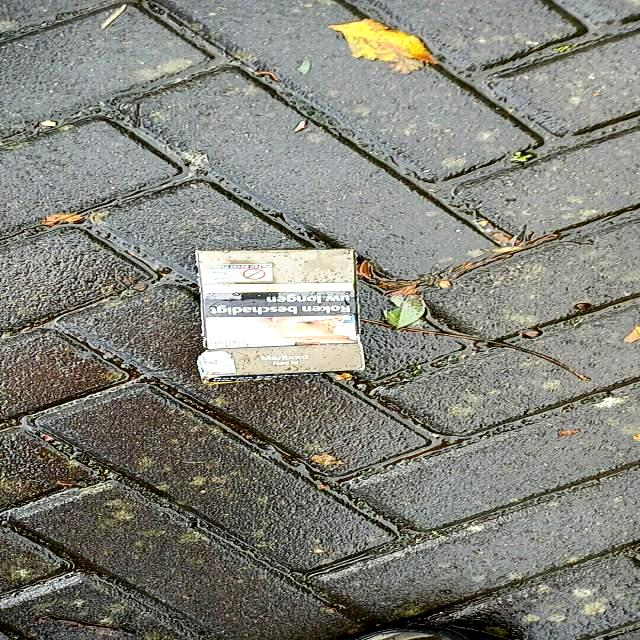Paper: (192, 246, 368, 386)
